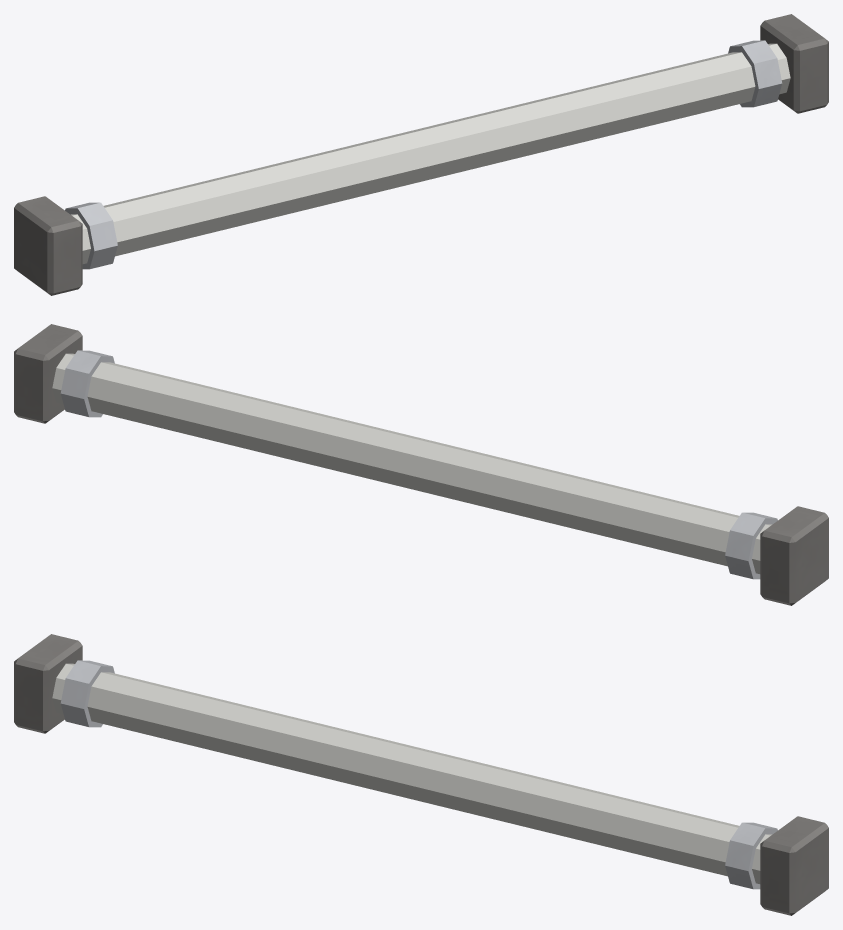
The model's file is ax_gear_07_strut_s.glb.
3 renders of one model, top to bottom at view 1: azimuth 30°, elevation 25°; view 2: azimuth 150°, elevation 25°; view 3: azimuth 330°, elevation 25°, orthographic.
Visible parts, largest first — view 1: strut_tube, end_fittings, tension_collars; view 2: strut_tube, end_fittings, tension_collars; view 3: strut_tube, end_fittings, tension_collars.
Part boxes in pixels (left/top/right/bottom): strut_tube: left=71, top=43, right=790, bottom=263; end_fittings: left=14, top=14, right=828, bottom=295; tension_collars: left=65, top=40, right=782, bottom=269; strut_tube: left=52, top=353, right=771, bottom=573; end_fittings: left=14, top=324, right=828, bottom=605; tension_collars: left=60, top=350, right=777, bottom=579; strut_tube: left=52, top=663, right=771, bottom=883; end_fittings: left=14, top=634, right=828, bottom=915; tension_collars: left=60, top=660, right=777, bottom=889.
Bounding box in the file's own units: 2 × 0.168 × 0.168.
3 materials, 2 textured.
